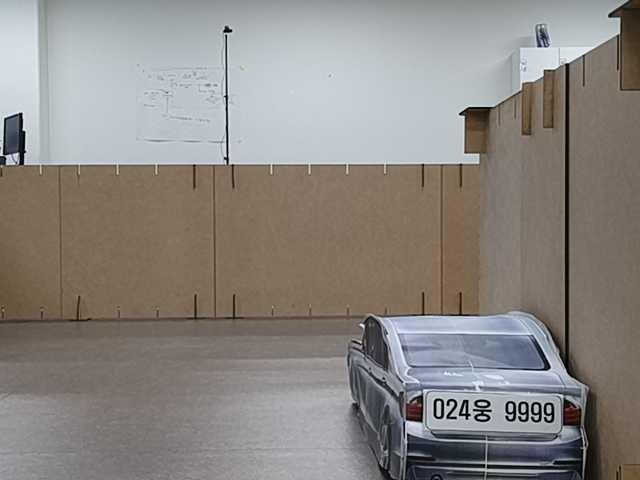car: (336, 306, 594, 480)
id: (421, 381, 566, 442)
